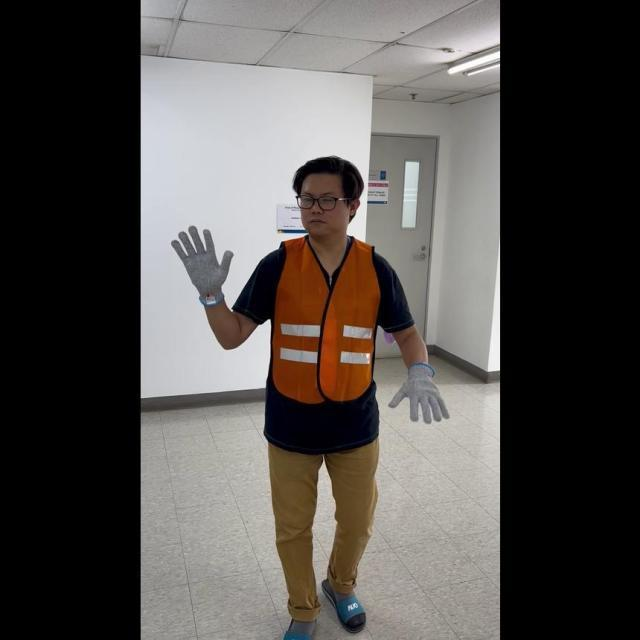gloved_hand: (170, 220, 234, 301), (385, 359, 449, 423)
